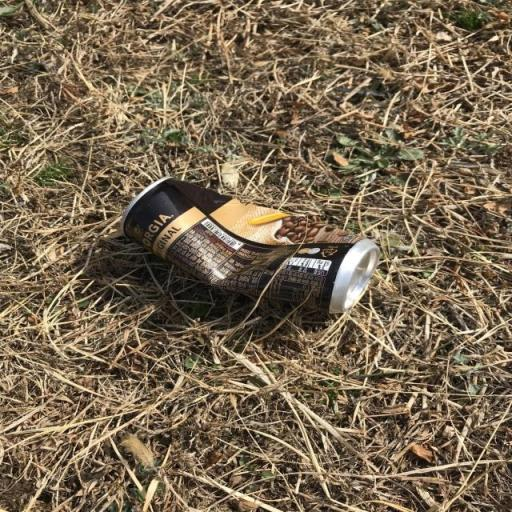metal: (80, 156, 410, 365)
